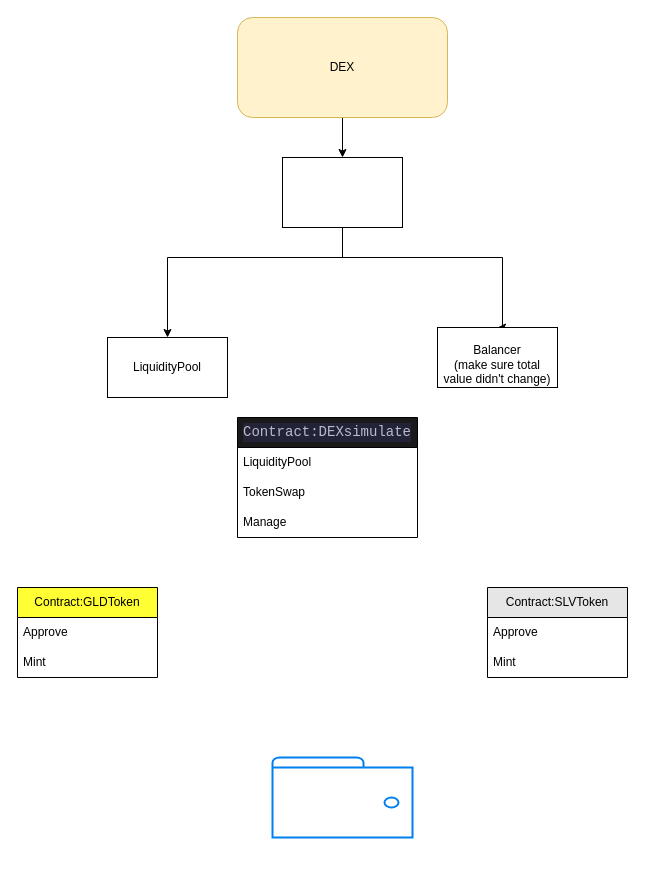
The diagram is 645 pixels wide and 876 high, and some of its shapes have lost their labels. Each missing label, with the centre of its shape:
"Automated Market Maker (AMM model)" goes at (x=342, y=192).
"USER Wallet" goes at (x=342, y=797).
